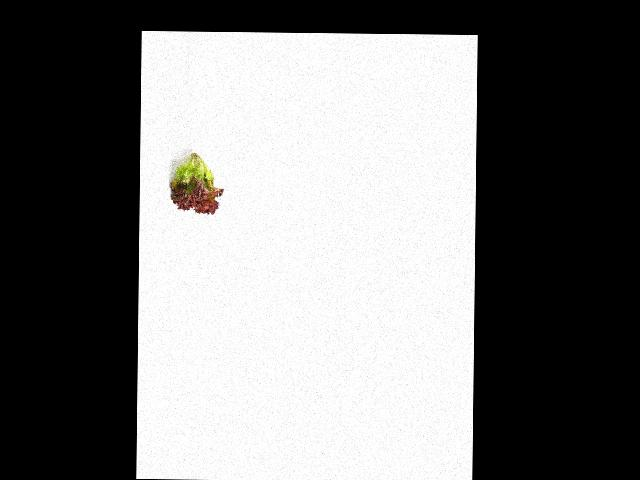lettuce: (168, 144, 222, 217)
